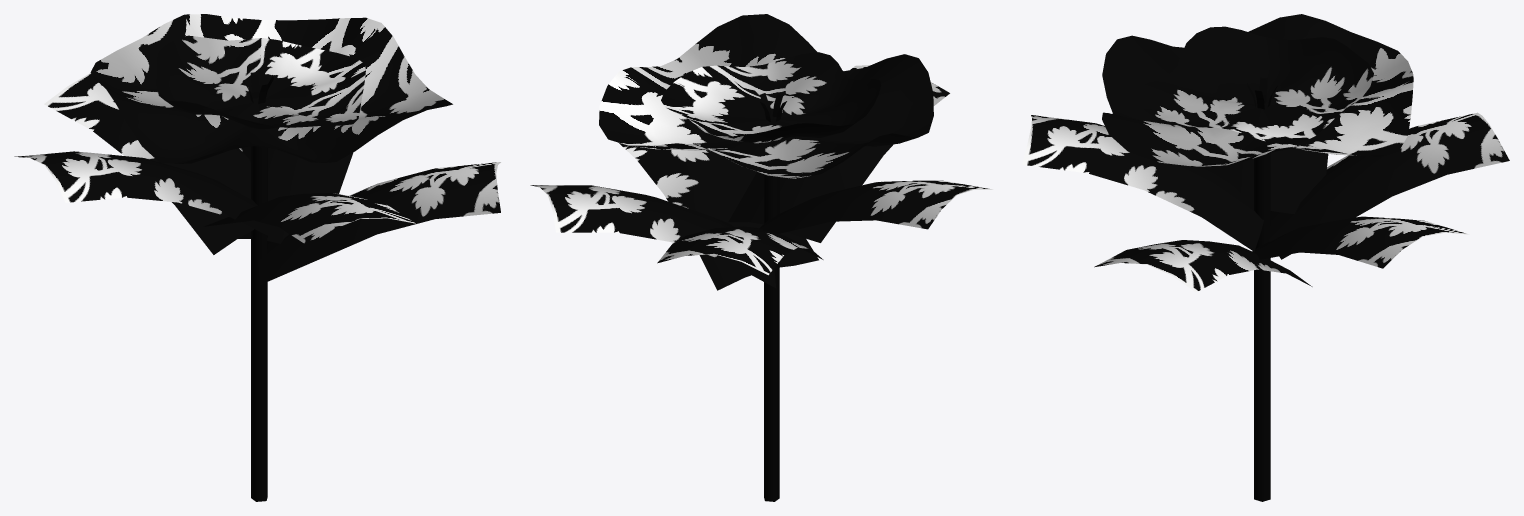
File: SM_Flower_B.glb
3 renders of one model, left to right at view 1: azimuth 30°, elevation 25°; view 2: azimuth 150°, elevation 25°; view 3: azimuth 270°, elevation 25°, orthographic. The views are drawn at different scales.
Parts seen in each view (by area): view 1: SM_Flower_B_LOD0; view 2: SM_Flower_B_LOD0; view 3: SM_Flower_B_LOD0.
Part boxes in pixels (<box>): SM_Flower_B_LOD0: <box>14,14,500,501</box>; SM_Flower_B_LOD0: <box>530,14,992,501</box>; SM_Flower_B_LOD0: <box>1022,14,1509,501</box>.
Size of the model in its own units: 0.3549 by 0.3503 by 0.3616.
1 material, 1 textured.
